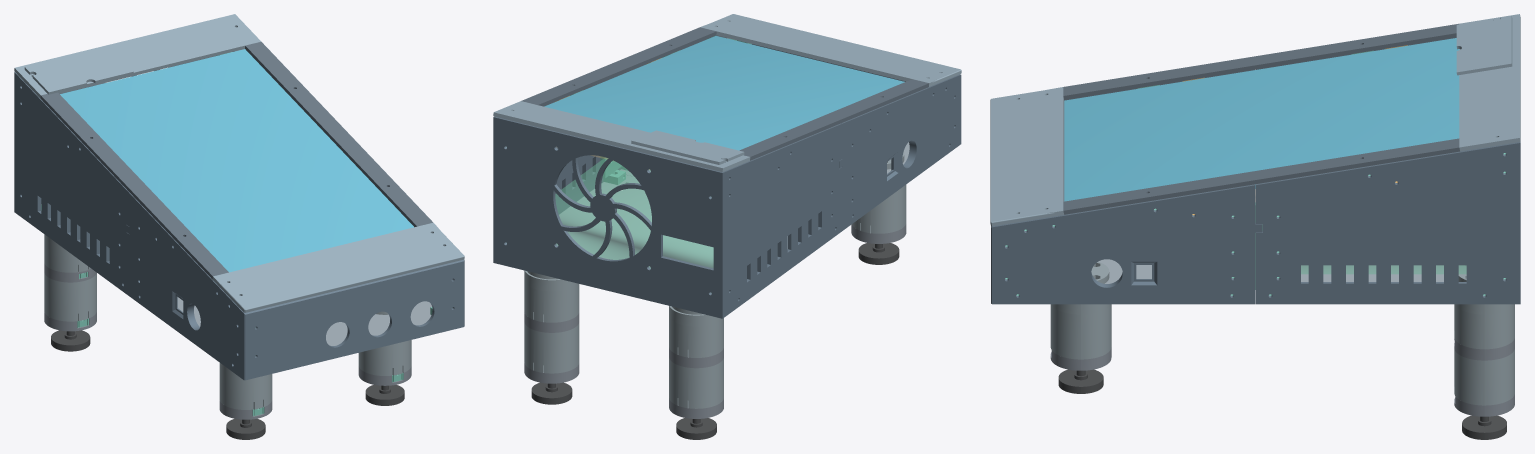
File: cabinet-v1_19.glb
3 renders of one model, left to right at view 1: azimuth 30°, elevation 25°; view 2: azimuth 150°, elevation 25°; view 3: azimuth 270°, elevation 25°, orthographic. The views are drawn at different scales.
Visible parts, largest first — view 1: REFERENCE_Monitor, left_rear_wall, front_button_panel, left_front_wall, front_cable_lid, rear_control_deck, bezel_right_a1_a2, bezel_left_one_piece, control_hatch, foot_m8_terminal_sleeve_left_rear_55mm, foot_m8_terminal_sleeve_left_front_55mm, foot_m8_terminal_sleeve_right_front_55mm (+9 smaller); view 2: rear_vent_panel, REFERENCE_Monitor, left_rear_wall, left_front_wall, front_cable_lid, REFERENCE_Dell_3050, bottom_rear, rear_control_deck, bezel_right_a1_a2, bezel_left_one_piece, foot_m8_terminal_sleeve_right_rear_55mm, foot_m8_terminal_sleeve_left_rear_55mm (+15 smaller); view 3: REFERENCE_Monitor, right_rear_wall, right_front_wall, front_cable_lid, bezel_right_a1_a2, bezel_left_one_piece, rear_control_deck, control_hatch, foot_m8_terminal_sleeve_right_front_55mm, foot_m8_terminal_sleeve_right_rear_55mm, foot_lock_sleeve_right_rear_1_45mm, bottom_rear (+7 smaller).
Part boxes in pixels (box(x1,y1,x2,y2)): REFERENCE_Monitor: box(60, 49, 413, 272); left_rear_wall: box(14, 72, 129, 295); front_button_panel: box(247, 260, 461, 379); left_front_wall: box(126, 193, 247, 380); front_cable_lid: box(212, 222, 464, 312); rear_control_deck: box(14, 14, 260, 98); bezel_right_a1_a2: box(245, 41, 432, 227); bezel_left_one_piece: box(40, 92, 228, 279); control_hatch: box(24, 46, 133, 94); foot_m8_terminal_sleeve_left_rear_55mm: box(44, 273, 96, 321); foot_m8_terminal_sleeve_left_front_55mm: box(219, 363, 272, 409); foot_m8_terminal_sleeve_right_front_55mm: box(358, 340, 411, 375); rear_vent_panel: box(496, 117, 719, 317); REFERENCE_Monitor: box(544, 36, 904, 150); left_rear_wall: box(719, 123, 842, 318); left_front_wall: box(839, 74, 961, 230); front_cable_lid: box(700, 14, 961, 86); REFERENCE_Dell_3050: box(555, 157, 713, 268); bottom_rear: box(559, 175, 787, 268); rear_control_deck: box(493, 101, 750, 171); bezel_right_a1_a2: box(521, 27, 716, 106); bezel_left_one_piece: box(739, 79, 929, 160); foot_m8_terminal_sleeve_right_rear_55mm: box(524, 322, 579, 373); foot_m8_terminal_sleeve_left_rear_55mm: box(669, 358, 723, 408); REFERENCE_Monitor: box(1064, 38, 1459, 201); right_rear_wall: box(1256, 142, 1520, 304); right_front_wall: box(991, 184, 1262, 304); front_cable_lid: box(990, 87, 1064, 226); bezel_right_a1_a2: box(1063, 138, 1459, 214); bezel_left_one_piece: box(1063, 23, 1458, 99); rear_control_deck: box(1459, 14, 1520, 151); control_hatch: box(1456, 16, 1512, 75); foot_m8_terminal_sleeve_right_front_55mm: box(1050, 304, 1111, 359); foot_m8_terminal_sleeve_right_rear_55mm: box(1454, 349, 1514, 405); foot_lock_sleeve_right_rear_1_45mm: box(1454, 304, 1514, 349); bottom_rear: box(1301, 265, 1459, 281).
Bounding box in the file's own units: 0.26 × 0.3106 × 0.4705.
